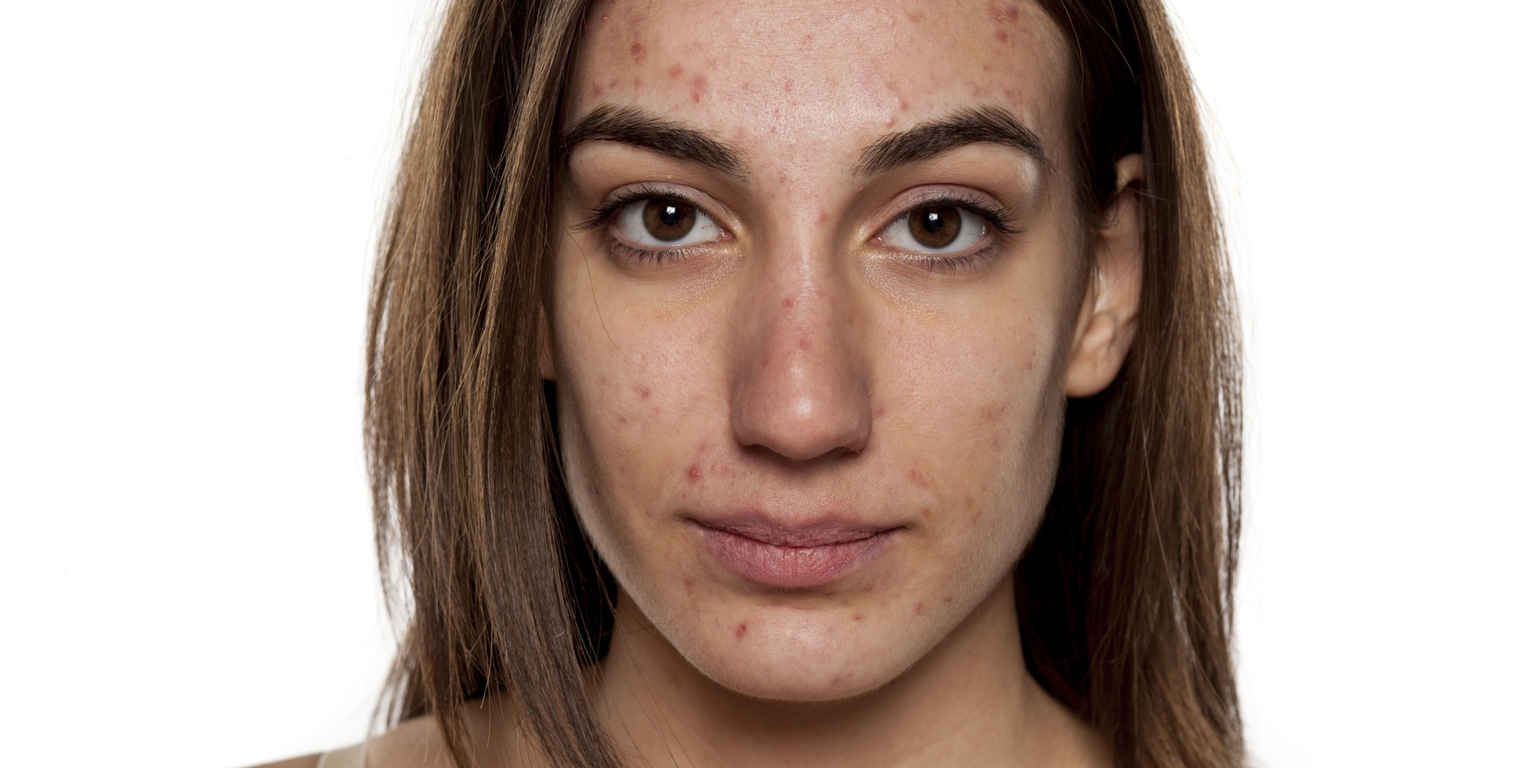Acne: (563, 14, 1106, 658)
